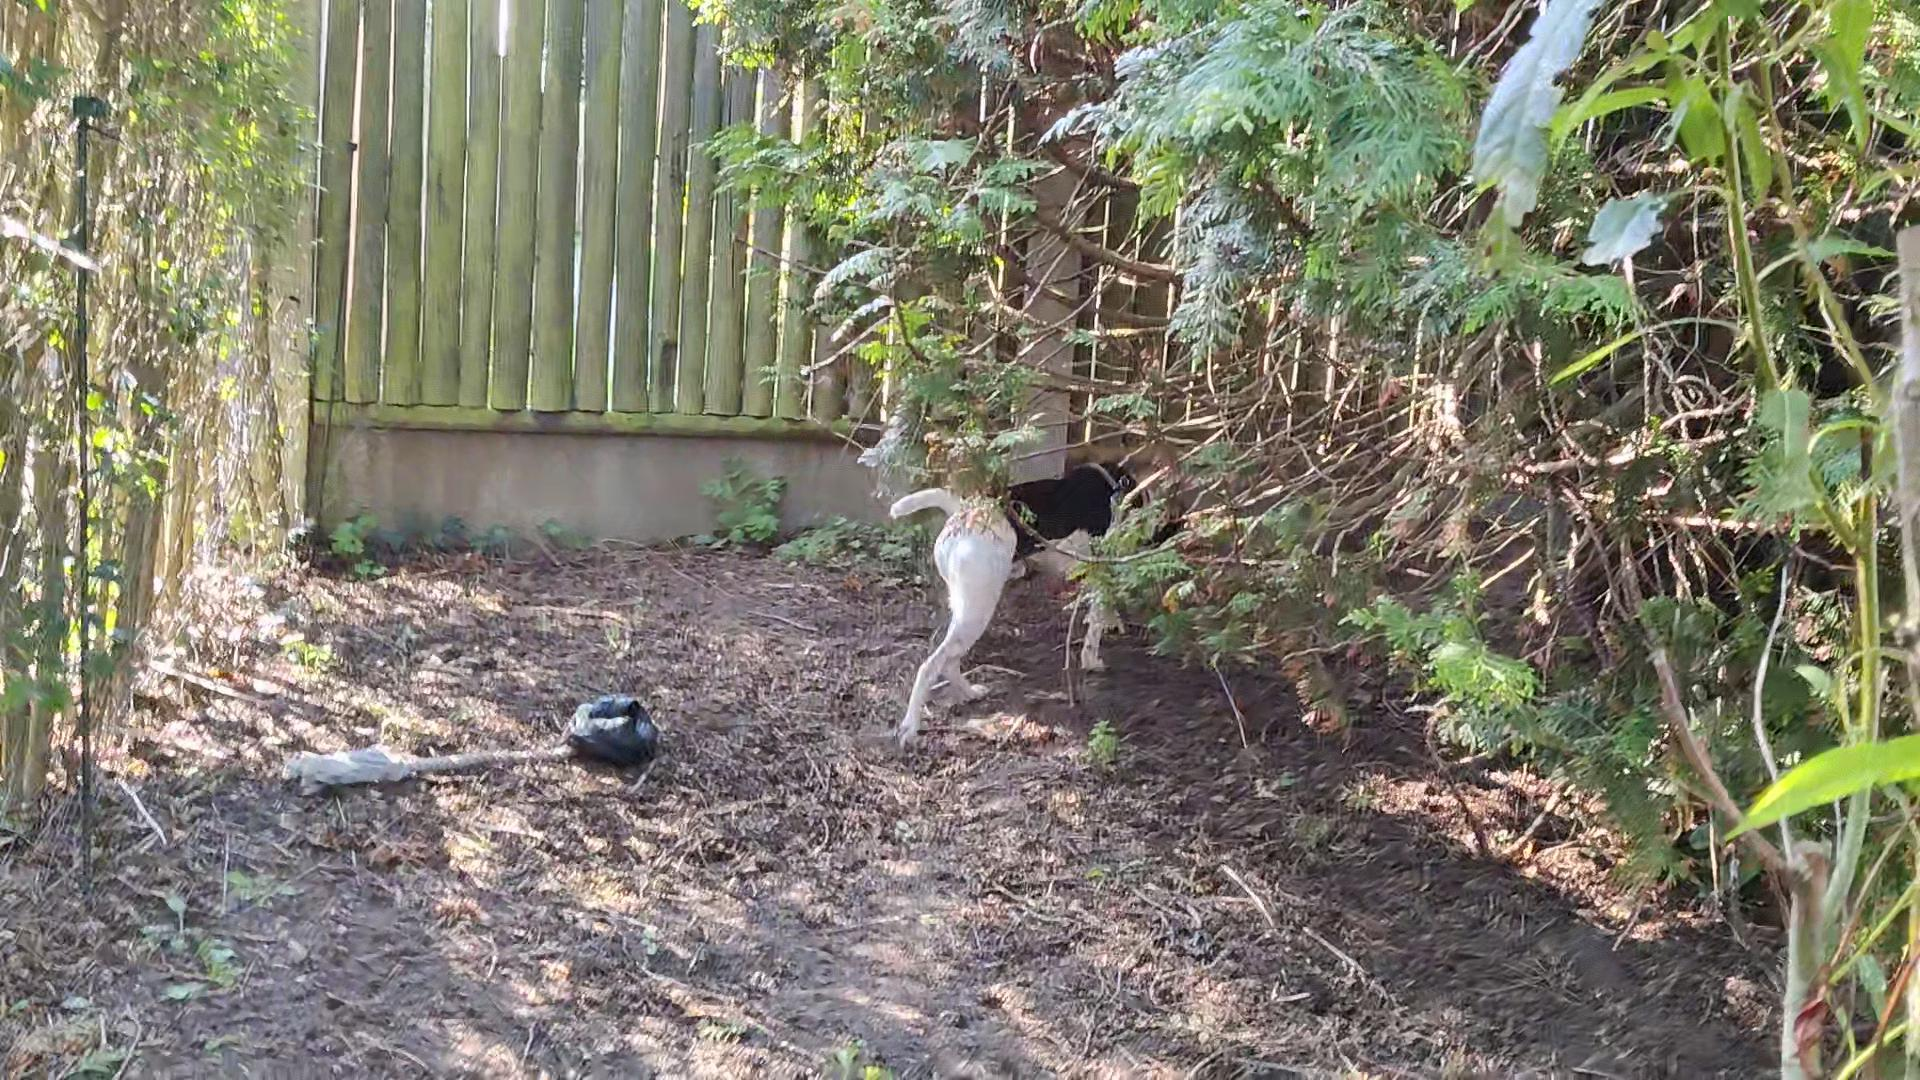Dog: (882, 452, 1199, 758)
